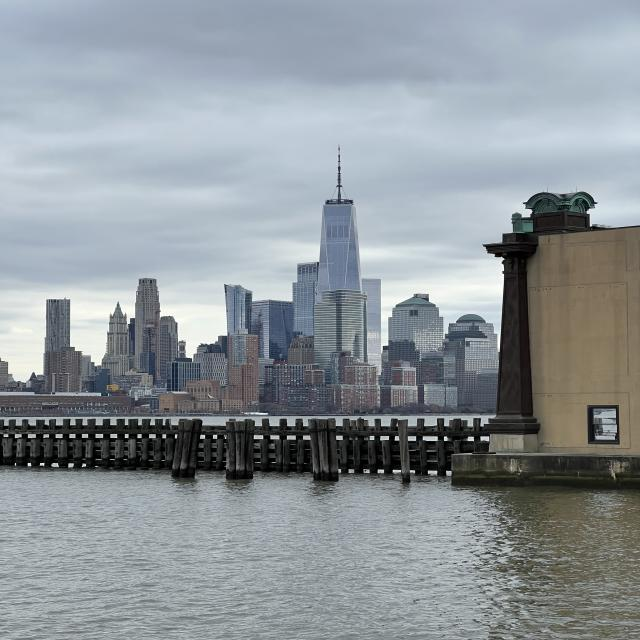WTC: (316, 145, 362, 291)
